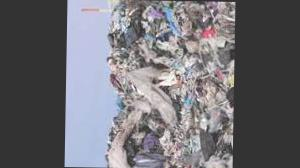Trash: (64, 0, 235, 168)
